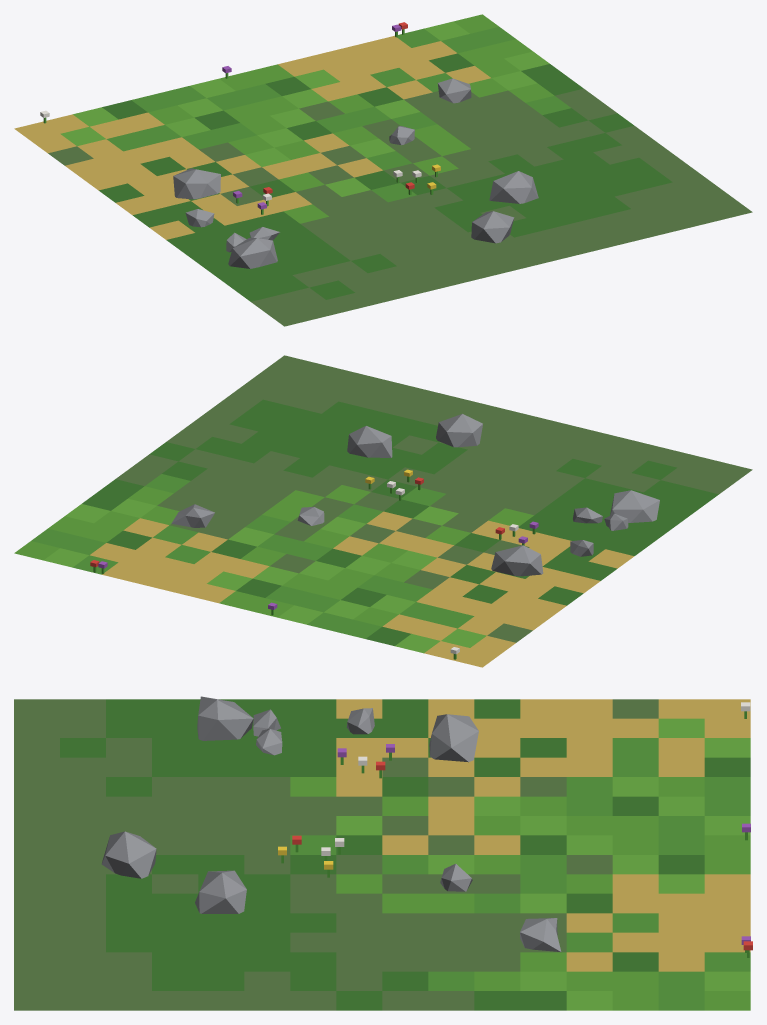
File: chunk_9_14.glb
The picture shows the model from 3 angles, top to bottom: view 1: azimuth 30°, elevation 25°; view 2: azimuth 150°, elevation 25°; view 3: azimuth 270°, elevation 25°; orthographic projection. The views are drawn at different scales.
Visible parts, largest first — view 1: chunk_9_14; view 2: chunk_9_14; view 3: chunk_9_14.
Part boxes in pixels (x1,y1,x2,y2): chunk_9_14: (14,14,752,326); chunk_9_14: (14,355,752,667); chunk_9_14: (14,696,752,1010).
Size of the model in its own units: 16 by 1.34 by 16.05.
